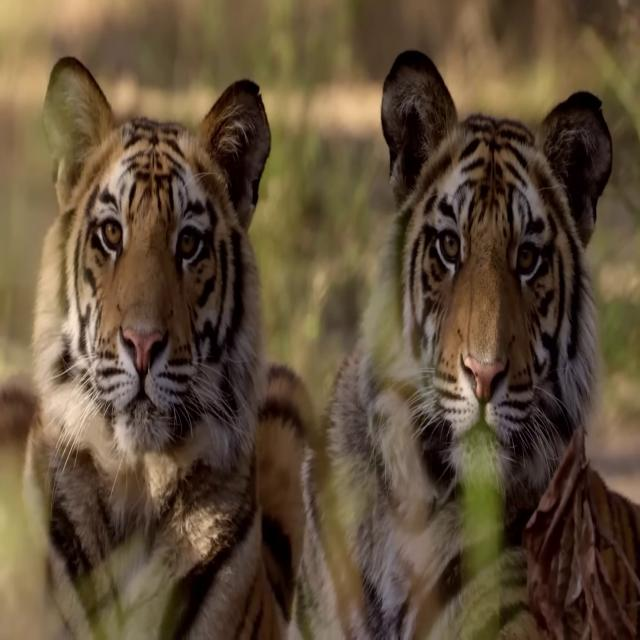tiger: (283, 48, 639, 640), (0, 52, 318, 640)
